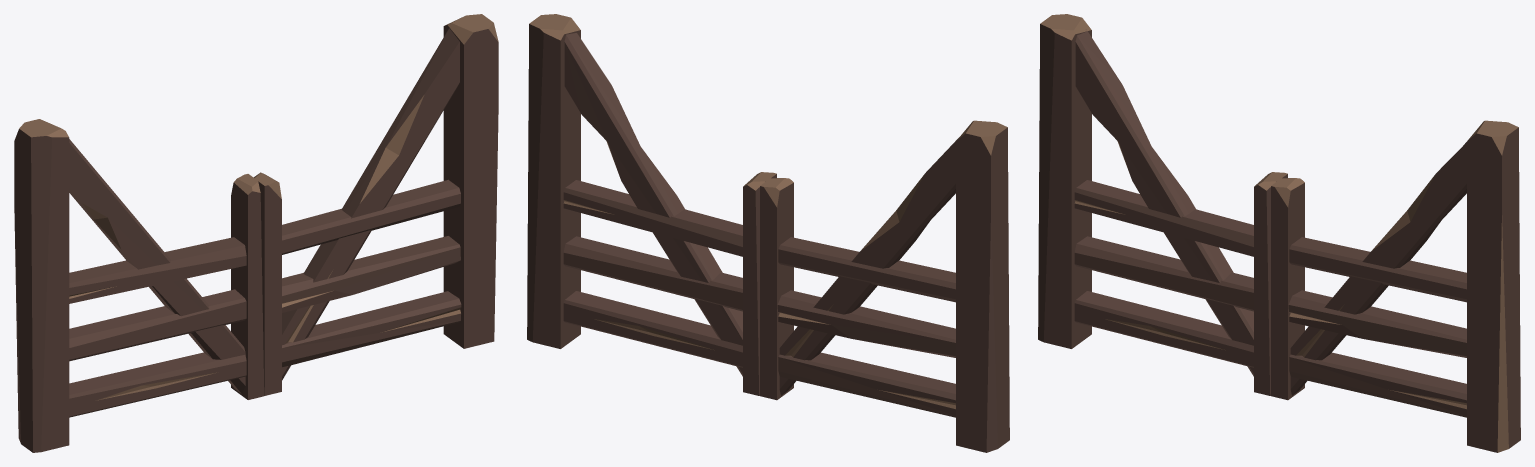
The model's file is Fence_4.fbx.
3 views of the same model, side by side, from view 1: azimuth 30°, elevation 25°; view 2: azimuth 150°, elevation 25°; view 3: azimuth 330°, elevation 25° (orthographic).
Visible parts, largest first — view 1: Fence_4; view 2: Fence_4; view 3: Fence_4.
Part boxes in pixels (bbox=[...]): Fence_4: bbox=[14, 14, 498, 452]; Fence_4: bbox=[527, 14, 1009, 452]; Fence_4: bbox=[1038, 14, 1520, 452].
Size of the model in its own units: 63.53 by 41.05 by 4.8.
